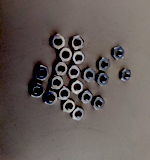nut: (34, 65, 50, 81), (29, 83, 45, 98), (51, 34, 65, 50), (54, 62, 69, 76), (70, 36, 84, 50), (59, 48, 73, 62), (67, 65, 81, 79), (44, 91, 58, 105), (50, 76, 64, 90), (79, 90, 93, 104), (71, 107, 85, 121), (98, 57, 111, 72), (83, 68, 96, 83), (71, 80, 84, 95), (112, 46, 125, 60), (73, 51, 86, 65), (97, 73, 110, 87), (58, 87, 71, 101), (62, 100, 76, 113), (92, 97, 105, 110), (119, 69, 131, 82)
